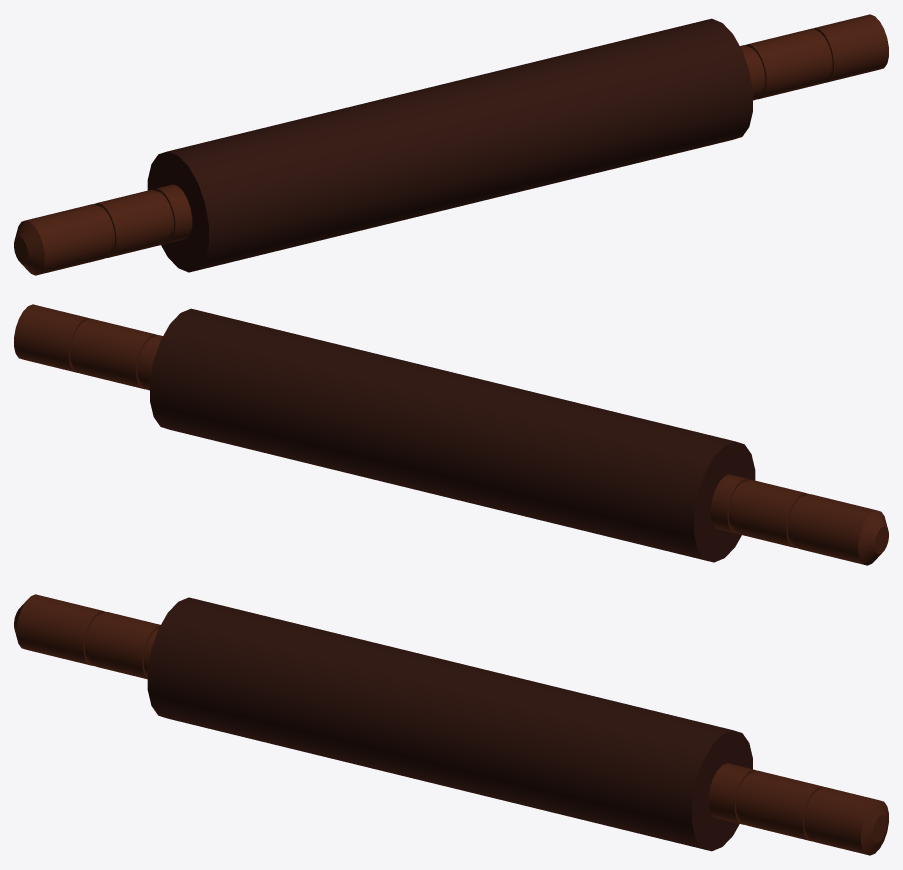
File: PatisserieRouleau.fbx
3 views of the same model, one above another, from view 1: azimuth 30°, elevation 25°; view 2: azimuth 150°, elevation 25°; view 3: azimuth 330°, elevation 25° (orthographic).
Parts seen in each view (by area): view 1: PatisserieRouleau; view 2: PatisserieRouleau; view 3: PatisserieRouleau.
Boxes of the visible parts, x1=… form: PatisserieRouleau: x1=14, y1=14, x2=888, y2=275; PatisserieRouleau: x1=14, y1=304, x2=888, y2=565; PatisserieRouleau: x1=14, y1=594, x2=888, y2=855.
Bounding box in the file's own units: 71 × 8.89 × 8.75.
